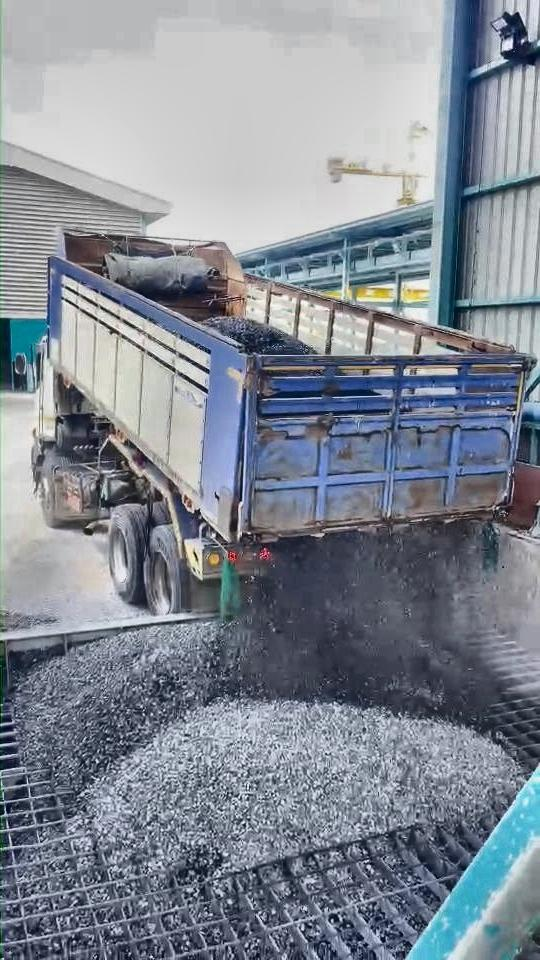gravel: (86, 700, 521, 872), (189, 523, 506, 728), (13, 621, 226, 793), (204, 317, 316, 354), (1, 609, 56, 631)
